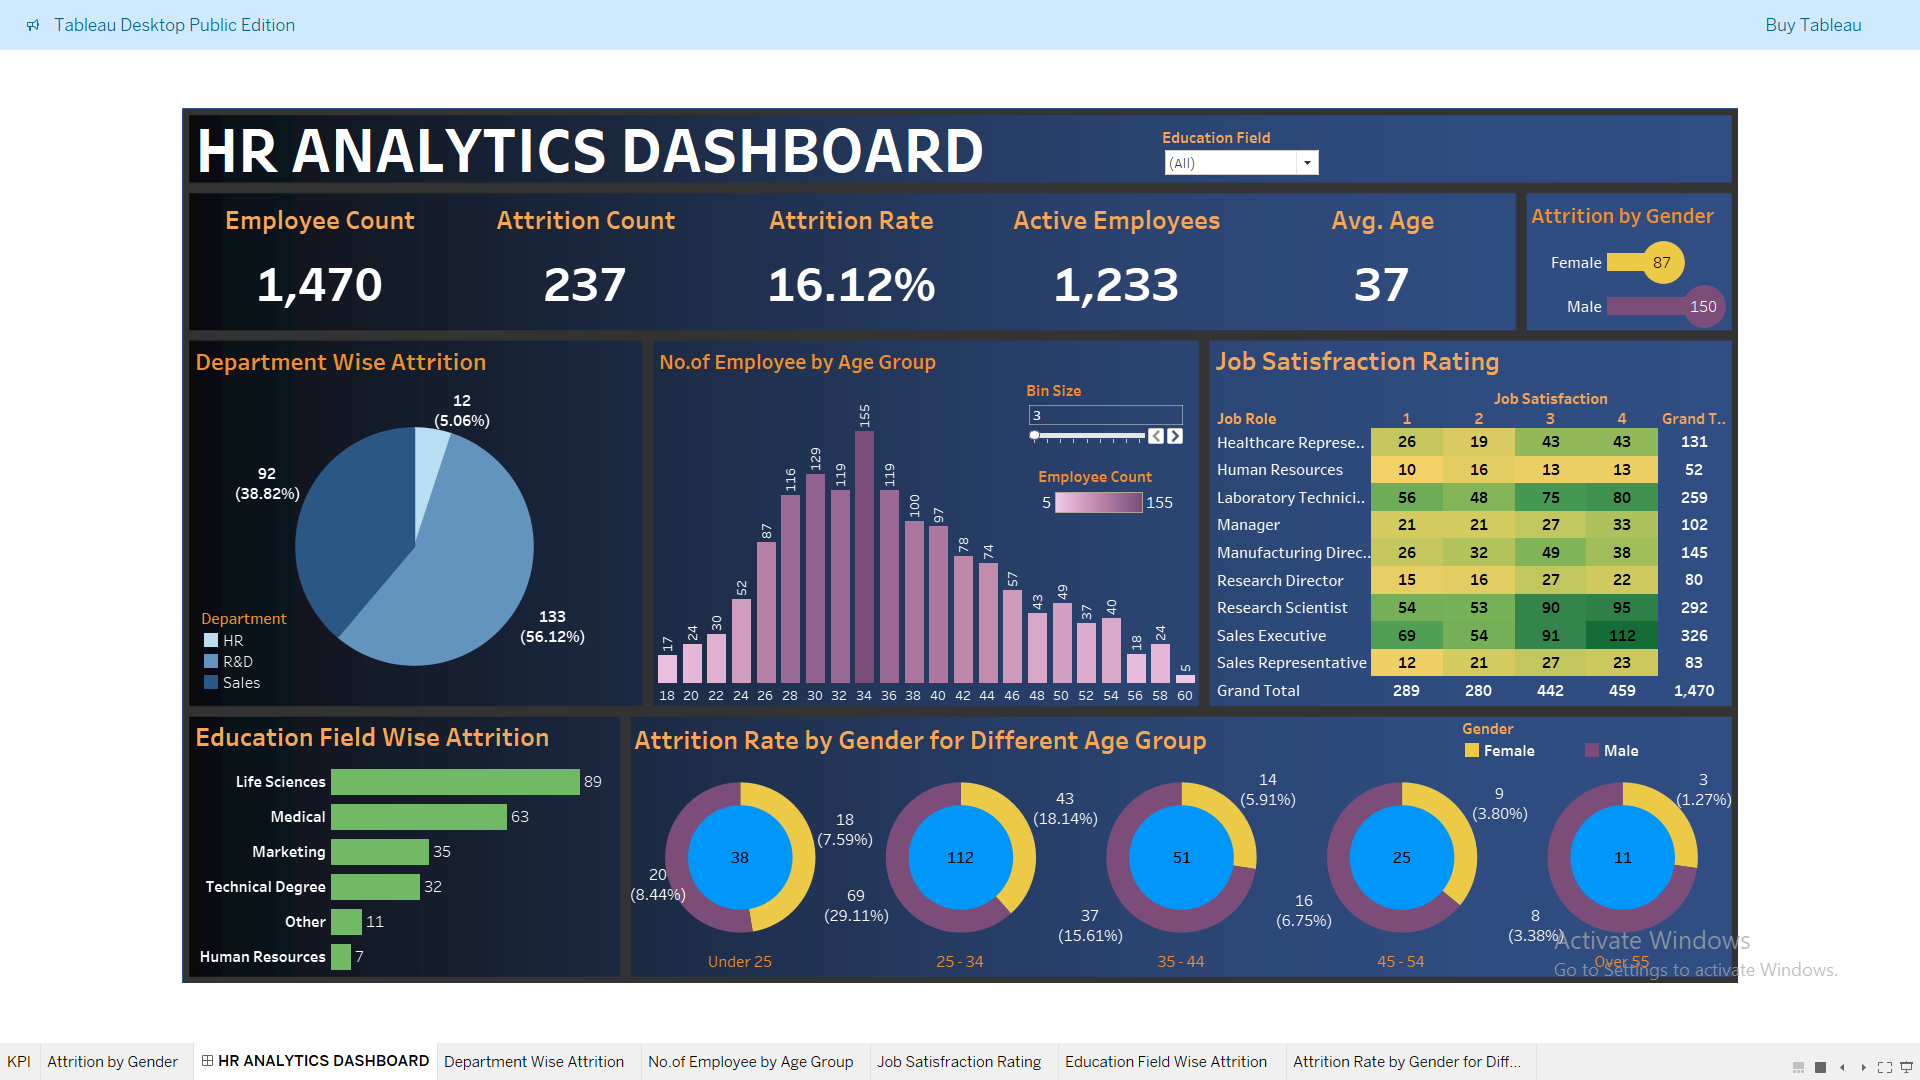

The page's visual inventory and layout, read from the dashboard file:
{"tool":"tableau","page":{"name":"HR ANALYTICS DASHBOARD","canvas":[1580,900],"ordinal":0},"visuals":[{"type":"image","param":"Image/HR background (1).PNG","box":[8,8,1564,884]},{"type":"text","box":[22,16,856,71]},{"type":"filter","title":"No.of Employee by Age Group","param":"[federated.0a8z0r40a8nntq192ln0h03u3xxx].[none:Education Field:nk]","box":[992,31,160,49]},{"type":"worksheet","title":"KPI","mark":"Automatic","box":[17,100,1329,133]},{"type":"worksheet","title":"Attrition by Gender","mark":"Automatic","rows":["Gender"],"cols":["Calculation_43347160937644032","Calculation_43347160937644032"],"box":[1357,101,204,131]},{"type":"worksheet","title":"Job Satisfraction Rating","mark":"Square","rows":["Job Role"],"cols":["Job Satisfaction"],"box":[1041,243,519,365]},{"type":"worksheet","title":"Department Wise Attrition","mark":"Pie","box":[21,245,447,364]},{"type":"worksheet","title":"No.of Employee by Age Group","mark":"Automatic","rows":["Employee Count"],"cols":["Age (bin)"],"box":[485,247,543,362]},{"type":"parameter","param":"[Parameters].[Parameter 1]","box":[856,284,160,71]},{"type":"legend","title":"No.of Employee by Age Group","param":"[federated.0a8z0r40a8nntq192ln0h03u3xxx].[sum:Employee Count:qk]","box":[868,370,140,88]},{"type":"legend","title":"Department Wise Attrition","param":"[federated.0a8z0r40a8nntq192ln0h03u3xxx].[none:Department:nk]","box":[31,512,112,85]},{"type":"worksheet","title":"Education Field Wise Attrition","mark":"Automatic","rows":["Education Field"],"cols":["Calculation_43347160937644032"],"box":[21,619,428,259]},{"type":"worksheet","title":"Attrition Rate by Gender for Different Age Group","mark":"Pie","rows":["Calculation_717198255503147009","Calculation_717198255503147009"],"cols":["CF_age band"],"box":[460,622,1103,255]},{"type":"legend","title":"Attrition Rate by Gender for Different Age Group","param":"[federated.0a8z0r40a8nntq192ln0h03u3xxx].[none:Gender:nk]","box":[1292,622,264,59]}]}

Visuals, with their boxes on the page's 1580x900 design canvas (x1, y1, x2, y2). These are canvas units, not pixel positions in the 1920x1080 screenshot, which may show the page scaled, cropped or inside an application window:
image: BBox(8, 8, 1572, 892)
text: BBox(22, 16, 878, 87)
"No.of Employee by Age Group" filter: BBox(992, 31, 1152, 80)
"KPI" worksheet: BBox(17, 100, 1346, 233)
"Attrition by Gender" worksheet: BBox(1357, 101, 1561, 232)
"Job Satisfraction Rating" worksheet (Square marks): BBox(1041, 243, 1560, 608)
"Department Wise Attrition" worksheet (Pie marks): BBox(21, 245, 468, 609)
"No.of Employee by Age Group" worksheet: BBox(485, 247, 1028, 609)
parameter: BBox(856, 284, 1016, 355)
"No.of Employee by Age Group" legend: BBox(868, 370, 1008, 458)
"Department Wise Attrition" legend: BBox(31, 512, 143, 597)
"Education Field Wise Attrition" worksheet: BBox(21, 619, 449, 878)
"Attrition Rate by Gender for Different Age Group" worksheet (Pie marks): BBox(460, 622, 1563, 877)
"Attrition Rate by Gender for Different Age Group" legend: BBox(1292, 622, 1556, 681)
